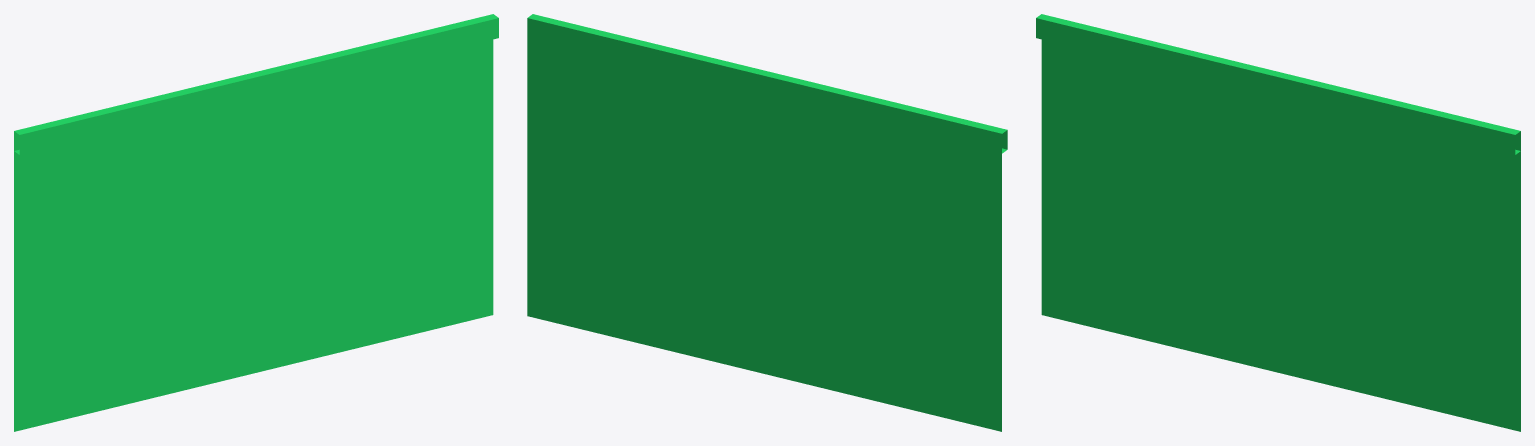
The model's file is SM_wall_top.fbx.
3 views of the same model, side by side, from view 1: azimuth 30°, elevation 25°; view 2: azimuth 150°, elevation 25°; view 3: azimuth 330°, elevation 25° (orthographic).
Visible parts, largest first — view 1: wall_empty_low.001; view 2: wall_empty_low.001; view 3: wall_empty_low.001.
Boxes of the visible parts, x1=… form: wall_empty_low.001: x1=14, y1=14, x2=498, y2=431; wall_empty_low.001: x1=527, y1=14, x2=1007, y2=431; wall_empty_low.001: x1=1036, y1=14, x2=1520, y2=431.
Size of the model in its own units: 500 by 300 by 10.
